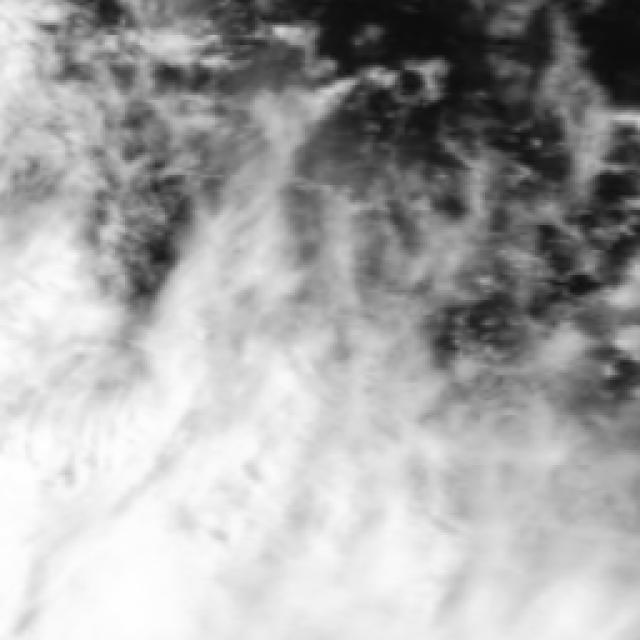CB: (2, 438, 335, 640)
